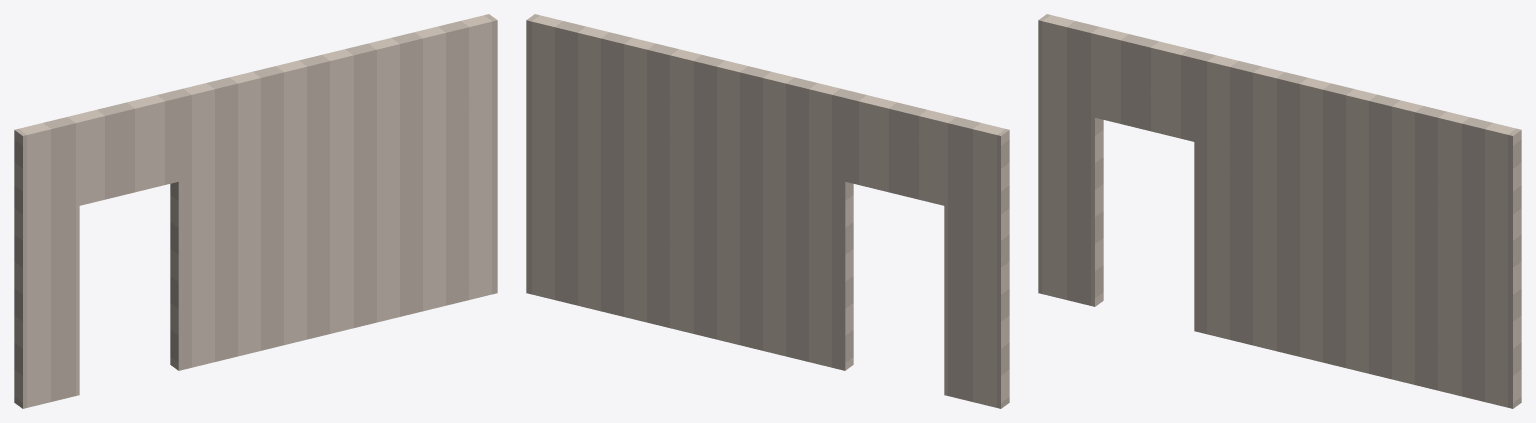
Rendered from WallWithDoor.fbx.
3 renders of one model, left to right at view 1: azimuth 30°, elevation 25°; view 2: azimuth 150°, elevation 25°; view 3: azimuth 330°, elevation 25°, orthographic.
Parts seen in each view (by area): view 1: pCube133; view 2: pCube133; view 3: pCube133.
Boxes of the visible parts, left/top/right/bottom form: pCube133: left=14, top=14, right=497, bottom=408; pCube133: left=526, top=14, right=1009, bottom=408; pCube133: left=1038, top=14, right=1521, bottom=408.
Size of the model in its own units: 8.11 by 4.46 by 0.2533.
